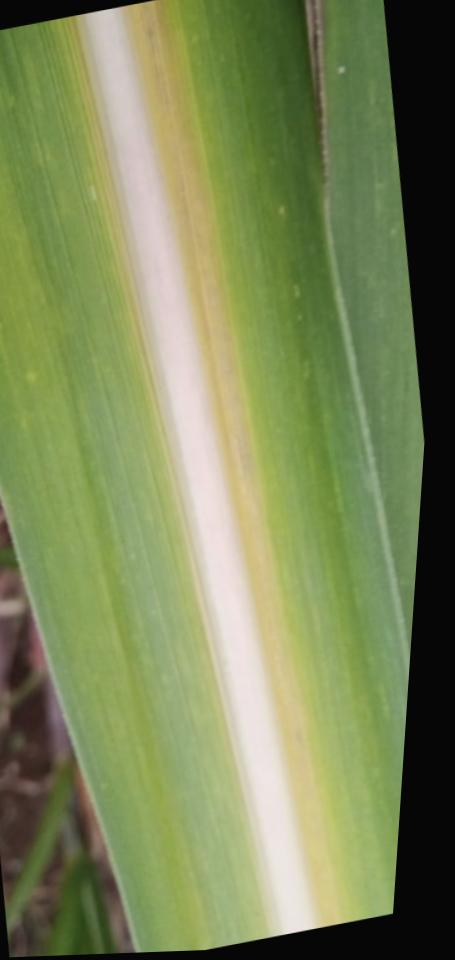Yellow: (122, 0, 341, 927)
